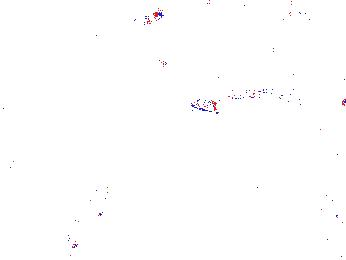X-ray fish: (121, 176, 160, 211)
glassfish: (64, 170, 120, 258), (188, 87, 292, 118)
red belly glassfish: (129, 5, 165, 31), (280, 3, 305, 24), (149, 56, 172, 75)
